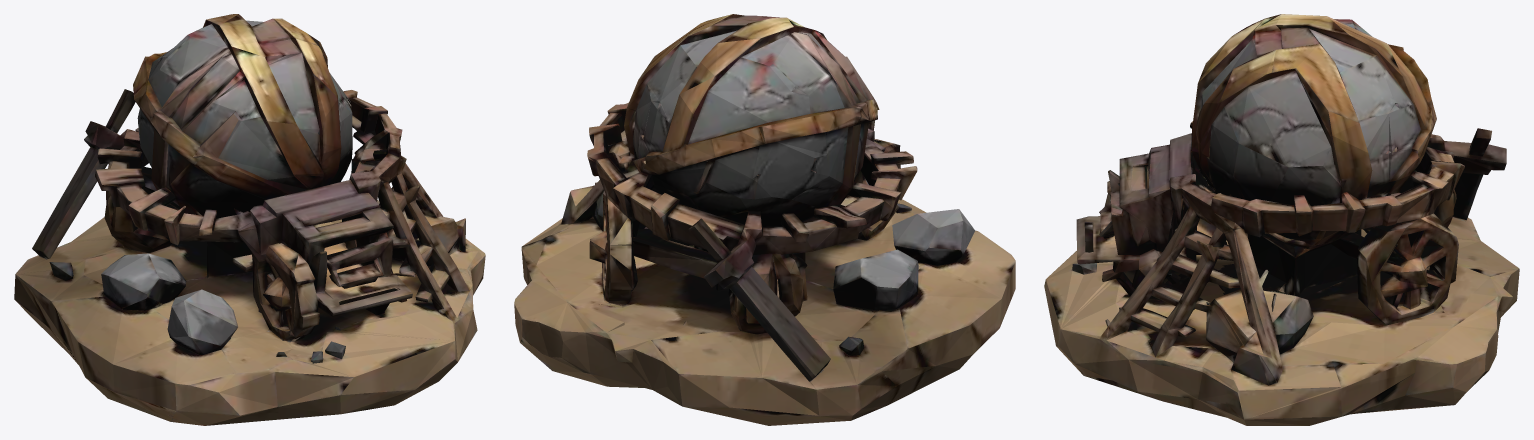
File: field_siege_boulder_01.glb
3 renders of one model, left to right at view 1: azimuth 30°, elevation 25°; view 2: azimuth 150°, elevation 25°; view 3: azimuth 270°, elevation 25°, orthographic. The views are drawn at different scales.
Parts seen in each view (by area): view 1: geometry_0; view 2: geometry_0; view 3: geometry_0.
Boxes of the visible parts, x1,y1,x2,y2 form: geometry_0: (14,14,485,425); geometry_0: (514,14,1015,425); geometry_0: (1044,14,1519,425).
Bounding box in the file's own units: 0.9941 × 0.7468 × 0.9971.
Materials: 1 (1 with a texture image).
